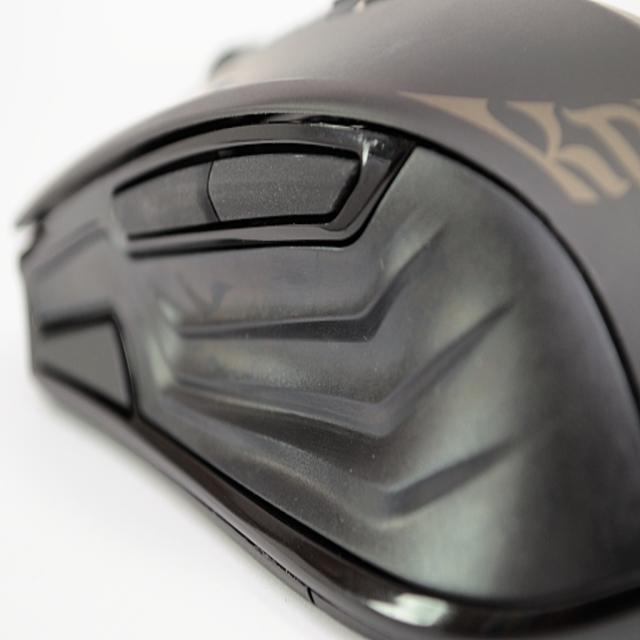Computer-mouse: (12, 0, 639, 639)
